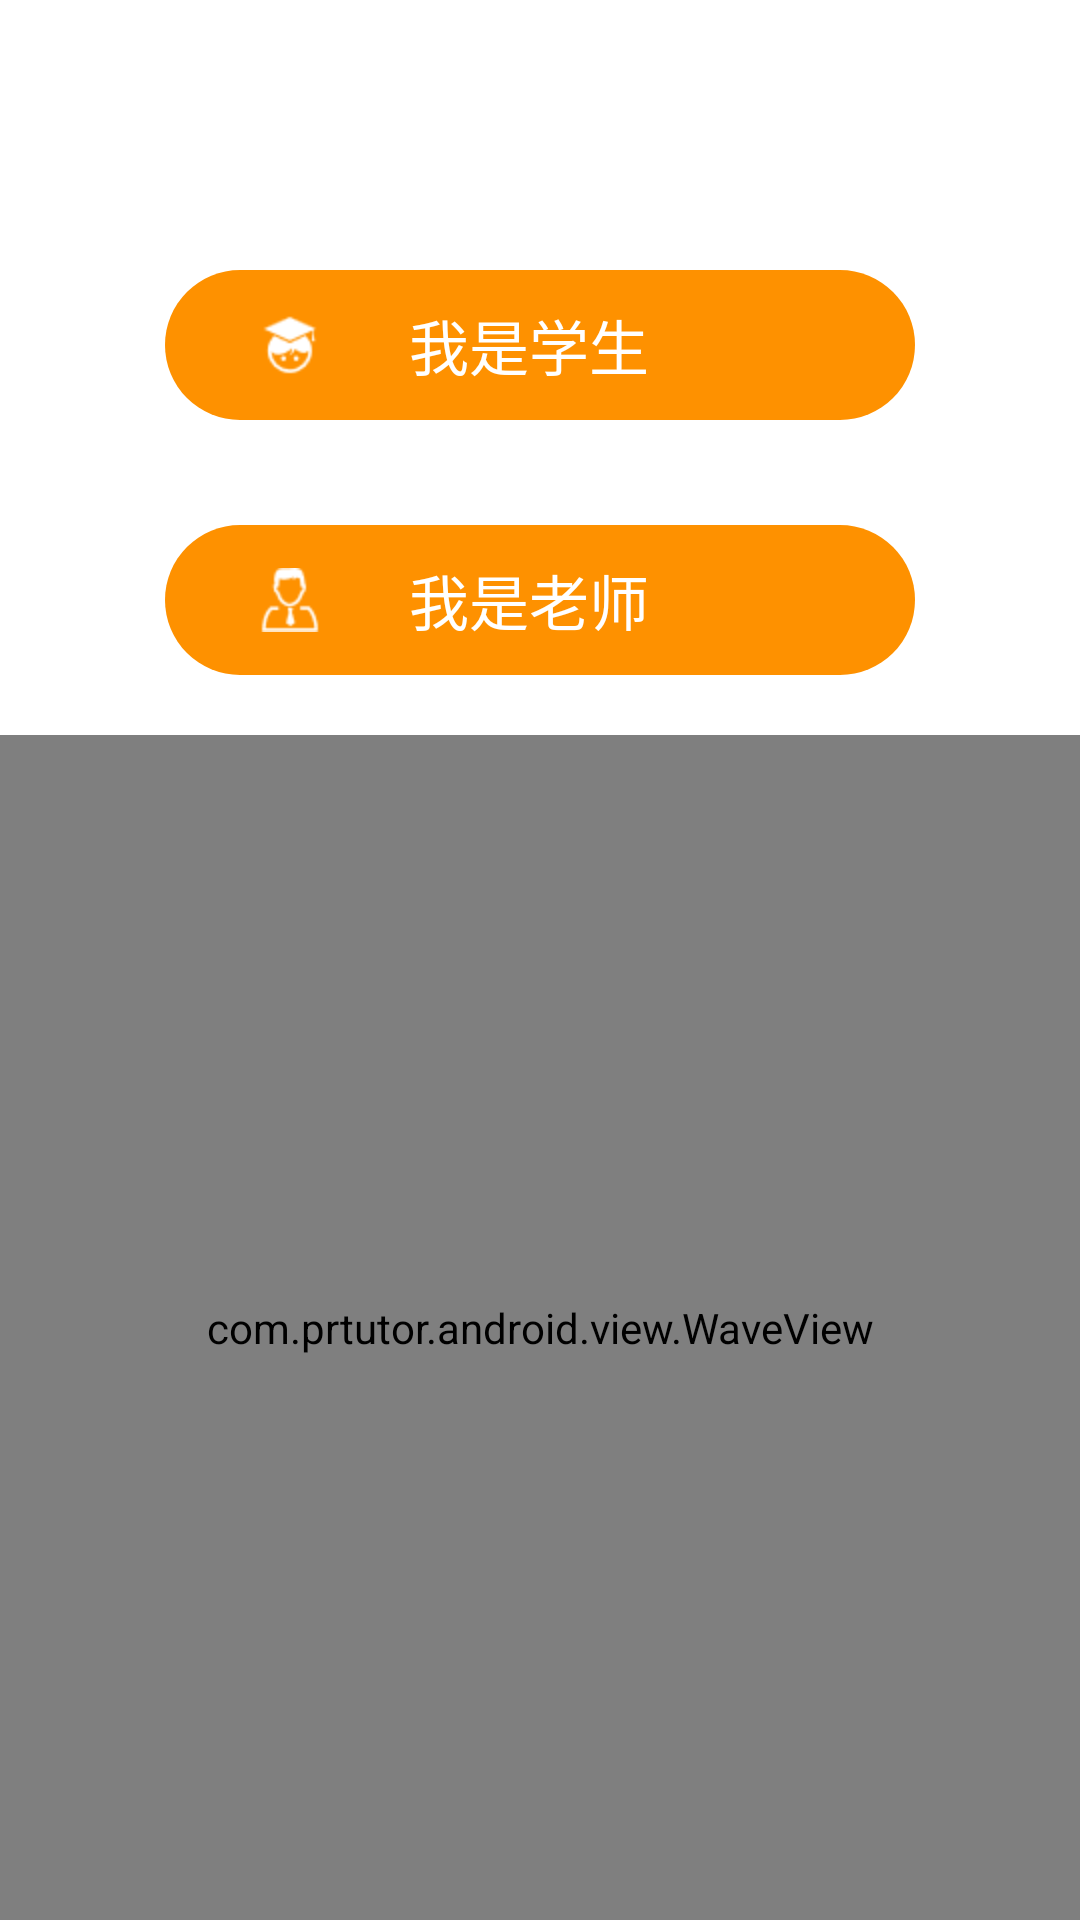

Icon bounding boxes for this 1080*1920 phone screenshot, format (x1, y1, x2, y2):
role select tutor: (261, 568, 319, 632)
stu toendwhite: (264, 316, 316, 374)
